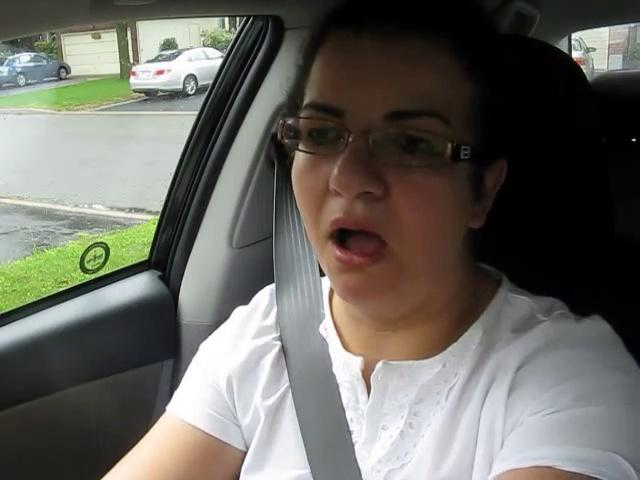open_eyeL: (284, 113, 360, 166)
open_eyeR: (366, 119, 460, 176)
yawn: (304, 206, 408, 273)
